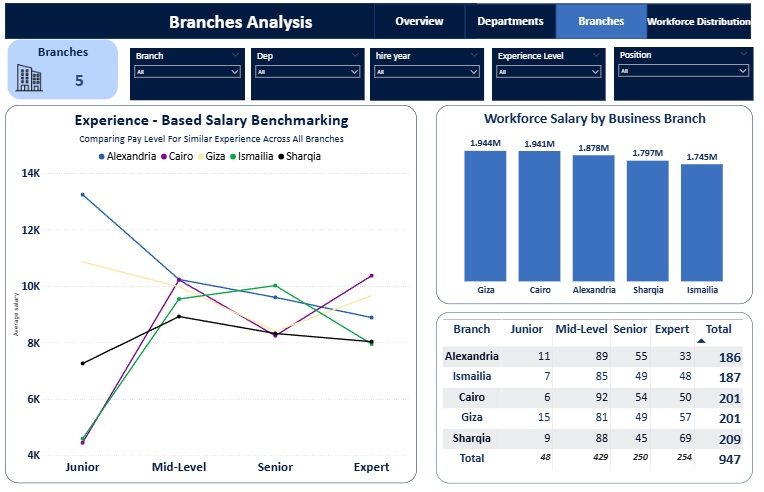

What the dashboard file says about the page in this screenshot:
{"tool":"powerbi","page":{"name":"Branch Analysis","canvas":[1700,1100],"ordinal":3},"visuals":[{"type":"shape","box":[15.4,15.4,1037.8,78.7],"z":0,"group":"g1"},{"type":"shape","box":[1427.8,17.2,228.8,77.4],"z":0,"group":"g4"},{"type":"slicer","fields":{"Values":["Employee Database.Position"]},"box":[1354.6,111.2,306.8,118],"z":0,"group":"g3"},{"type":"slicer","fields":{"Values":["Employee Database.Branch"]},"box":[290.5,112.6,253.3,115.3],"z":0,"group":"g2"},{"type":"pivotTable","title":"Employees Pay_Type Track In Each Branch","fields":{"Rows":["Employee Database.Branch"],"Values":["Employee Database.Count of employees"],"Columns":["Employee Database.ExperienceLevel_Clean"]},"box":[964.6,694.5,696.8,376.8],"z":0},{"type":"group","id":"g1","title":"Group 1","box":[15.4,15.4,1412.4,79.2],"z":1000,"group":"g4"},{"type":"shape","box":[826.2,17.6,200.2,76.5],"z":1000,"group":"g1"},{"type":"cardVisual","title":"Branches","fields":{"Data":["Employee Database.Branches"]},"box":[20.4,95.3,245.1,133.9],"z":1000},{"type":"group","id":"g2","title":"Group 2","box":[290.5,112.6,1046.7,115.4],"z":1000,"group":"g3"},{"type":"slicer","fields":{"Values":["Employee Database.Dep"]},"box":[556.6,112.6,250.4,115.3],"z":1000,"group":"g2"},{"type":"shape","box":[1026.4,17.6,200.2,76.5],"z":2000,"group":"g1"},{"type":"slicer","fields":{"Values":["Employee Database.hire year"]},"box":[818.5,112.6,251.1,116.4],"z":2000,"group":"g2"},{"type":"lineChart","title":"Experience - Based Salary Benchmarking","fields":{"Y":["Employee Database.Average salary"],"Series":["Employee Database.Branch"],"Category":["Employee Database.ExperienceLevel_Clean"]},"box":[15.4,239.8,906.4,831.6],"z":2000},{"type":"shape","box":[1226.5,17.6,200.2,76.5],"z":3000,"group":"g1"},{"type":"slicer","fields":{"Values":["Employee Database.Experience Level"]},"box":[1086.8,112.6,250.4,116.4],"z":3000,"group":"g2"},{"type":"clusteredColumnChart","title":"Workforce Salary by Business Branch","fields":{"Category":["Employee Database.Branch"],"Y":["Sum(Employee Database.Salary)"]},"box":[964.6,240.6,696.8,438.1],"z":3000},{"type":"group","id":"g3","title":"Group 3","box":[290.5,111.2,1370.9,118],"z":4000},{"type":"group","id":"g4","title":"Group 2","box":[15.4,15.4,1641.2,79.2],"z":5000}]}

Visuals, with their boxes in screenshot pixels (x1, y1, x2, y2), scaled from the page's 1700x1100 canvas onto the 764x492 screenshot:
shape: <region>7, 7, 473, 42</region>
shape: <region>642, 8, 744, 42</region>
slicer - Employee Database.Position: <region>609, 50, 747, 103</region>
slicer - Employee Database.Branch: <region>131, 50, 244, 102</region>
"Employees Pay_Type Track In Each Branch" pivotTable: <region>434, 311, 747, 479</region>
"Group 1" group: <region>7, 7, 642, 42</region>
shape: <region>371, 8, 461, 42</region>
"Branches" cardVisual: <region>9, 43, 119, 103</region>
"Group 2" group: <region>131, 50, 601, 102</region>
slicer - Employee Database.Dep: <region>250, 50, 363, 102</region>
shape: <region>461, 8, 551, 42</region>
slicer - Employee Database.hire year: <region>368, 50, 481, 102</region>
"Experience - Based Salary Benchmarking" lineChart: <region>7, 107, 414, 479</region>
shape: <region>551, 8, 641, 42</region>
slicer - Employee Database.Experience Level: <region>488, 50, 601, 102</region>
"Workforce Salary by Business Branch" clusteredColumnChart: <region>434, 108, 747, 304</region>
"Group 3" group: <region>131, 50, 747, 103</region>
"Group 2" group: <region>7, 7, 744, 42</region>
